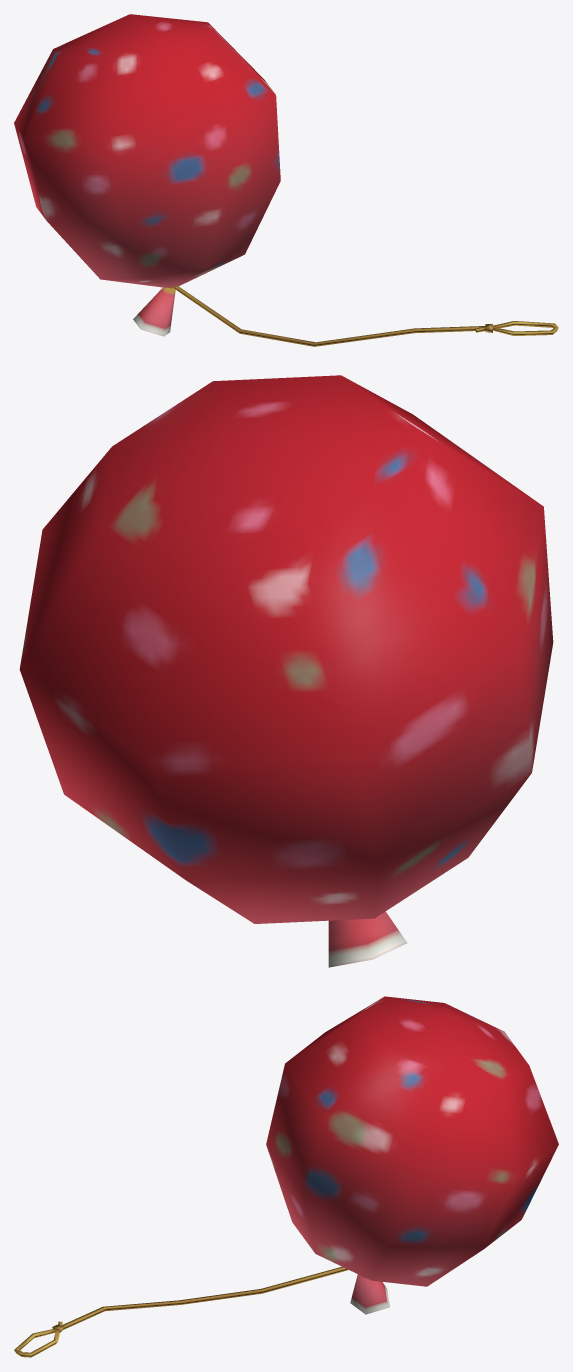
Rendered from jsf_WaterBalloon_17_d.fbx.
The picture shows the model from 3 angles, top to bottom: view 1: azimuth 30°, elevation 25°; view 2: azimuth 150°, elevation 25°; view 3: azimuth 270°, elevation 25°; orthographic projection. The views are drawn at different scales.
Visible parts, largest first — view 1: jsf_WaterBalloon_17_d; view 2: jsf_WaterBalloon_17_d; view 3: jsf_WaterBalloon_17_d.
Part boxes in pixels (x1,y1,x2,y2): jsf_WaterBalloon_17_d: (14,14,558,346); jsf_WaterBalloon_17_d: (19,375,553,967); jsf_WaterBalloon_17_d: (14,996,558,1357).
Bounding box in the file's own units: 15.63 × 12.55 × 20.67.
